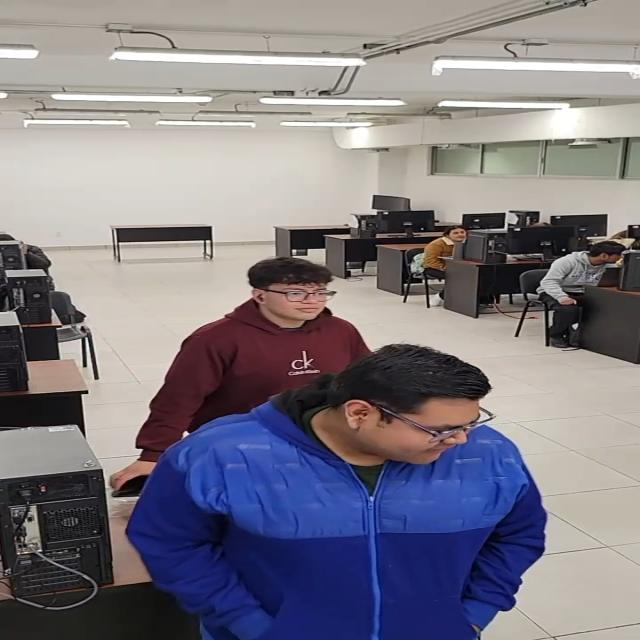Persona: (124, 345, 549, 640), (134, 253, 380, 449)
